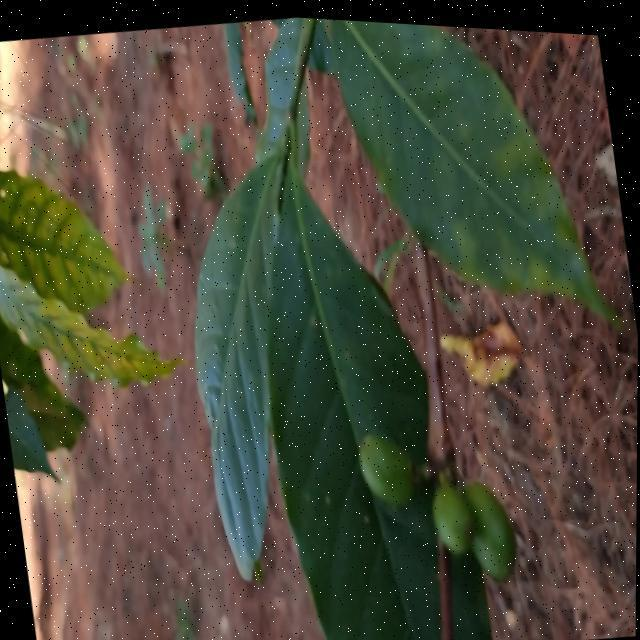leaves: (292, 0, 629, 372), (187, 152, 281, 580), (0, 148, 135, 336)
